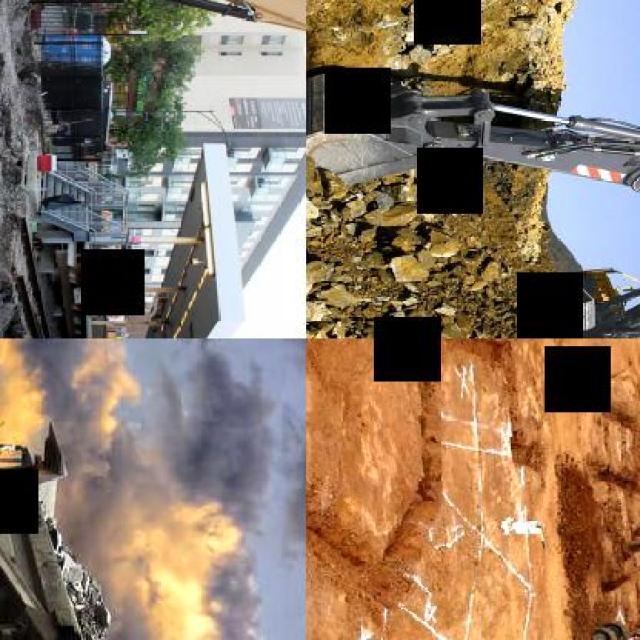dump_truck: (0, 424, 114, 638)
excavator: (306, 74, 639, 337)
